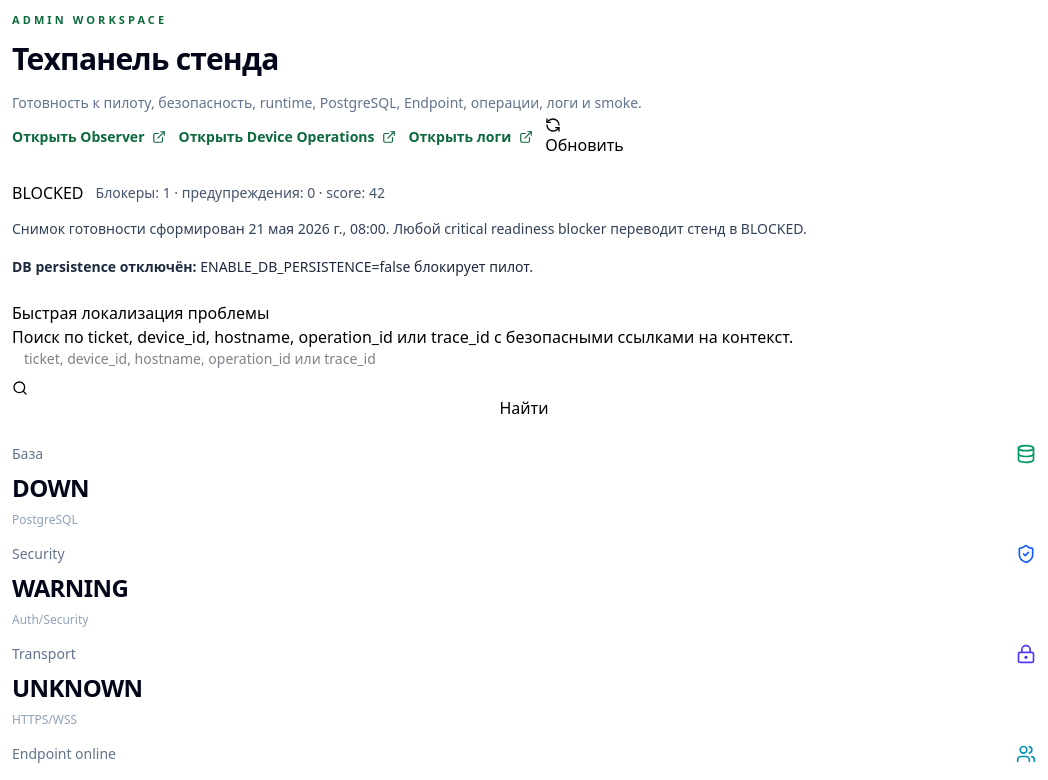
Scenario: AdminTechPage v2 › renders quick locator empty and error states
Expected: the text "BLOCKED" is shown, [12,180,84,204]
Type "missing-ticket" into the search field with placeholder "ticket, device_id, hostname, operation_id или trace_id" at (524, 358), box [12,348,1036,368]
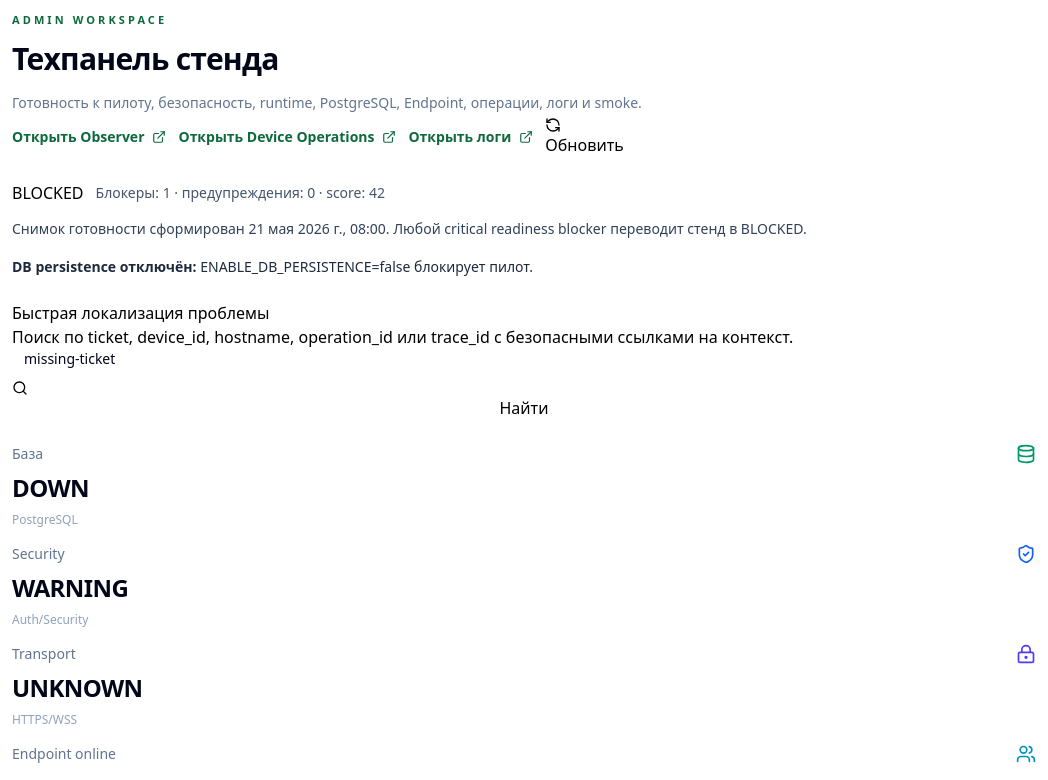
Click the button "Найти" at (524, 400), box [12,380,1036,420]
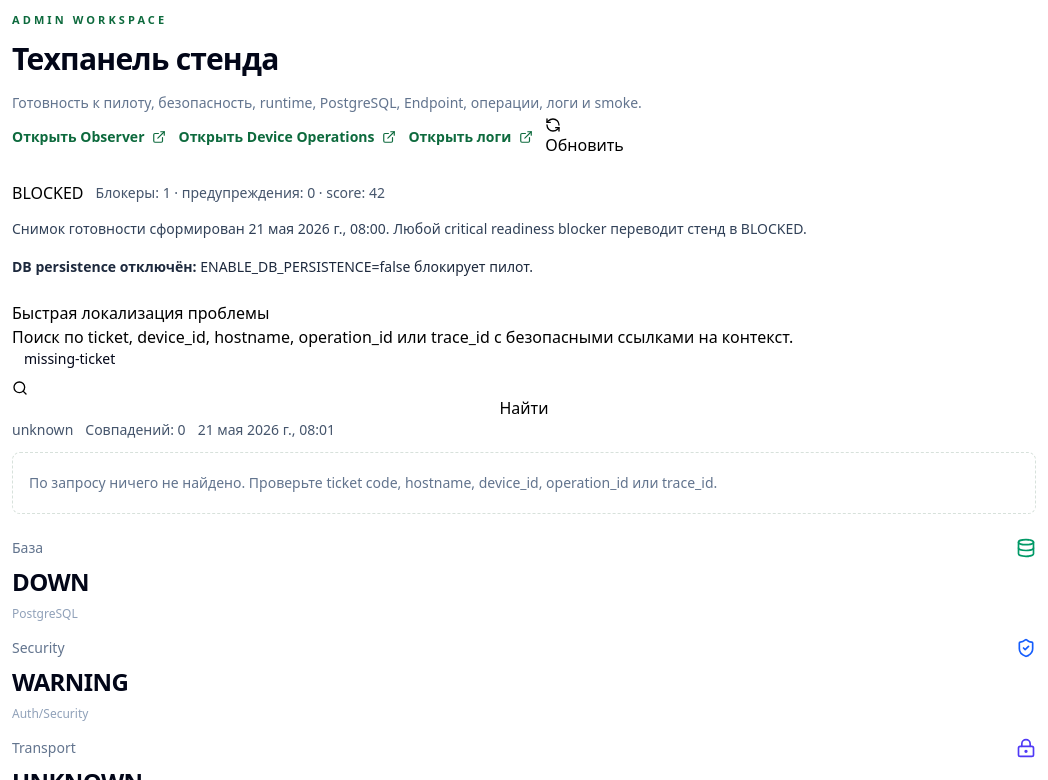
Expected: the text "По запросу ничего не найдено" is shown, [29,472,717,492]
Replace the text in the search field with placeholder "ticket, device_id, hostname, operation_id или trace_id" with "device-1" at (524, 358), box [12,348,1036,368]
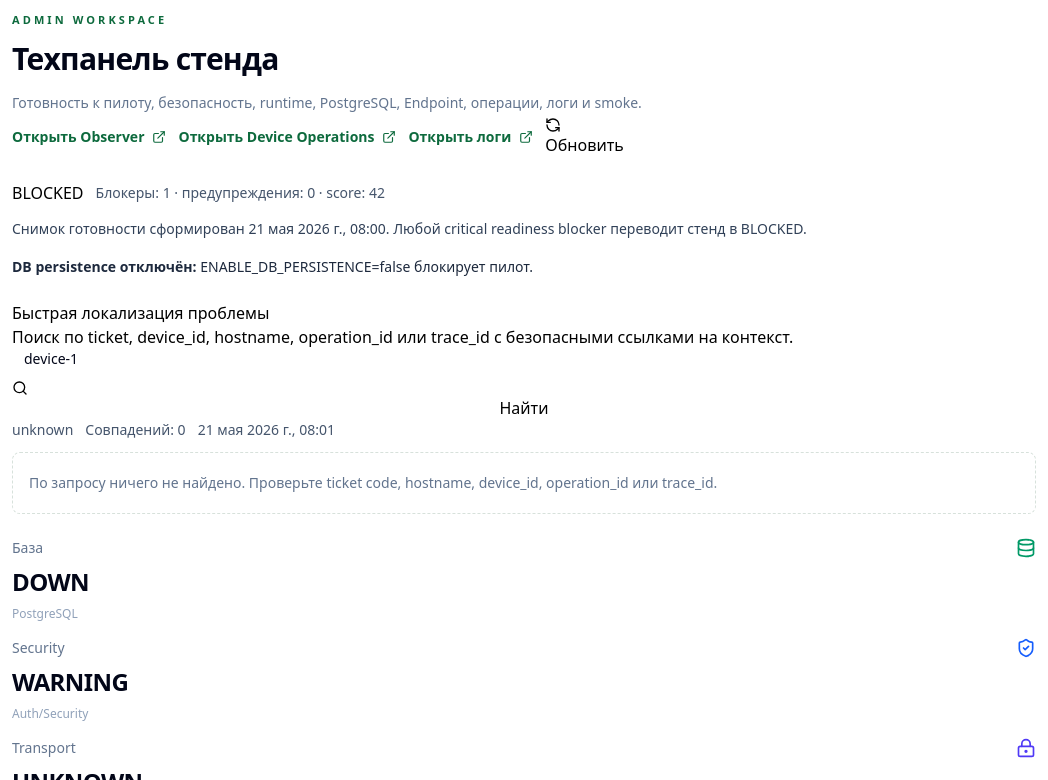
Click the button "Найти" at (524, 400), box [12,380,1036,420]
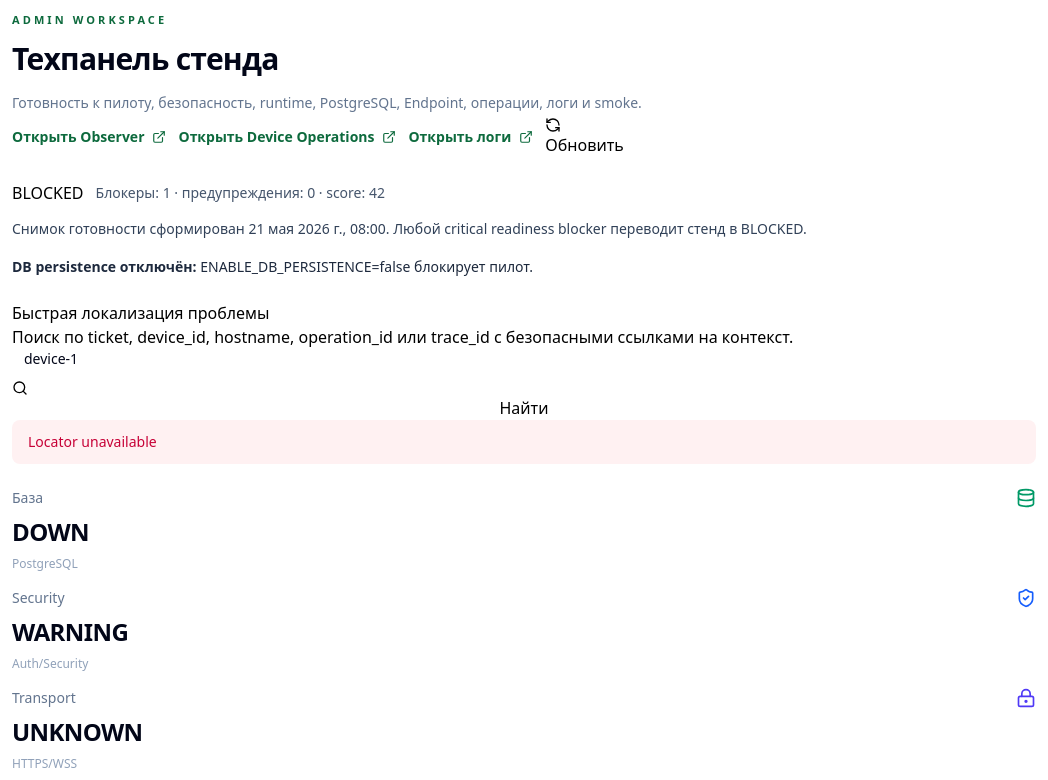
Expected: the text "Locator unavailable" is shown, [12,420,1036,464]
